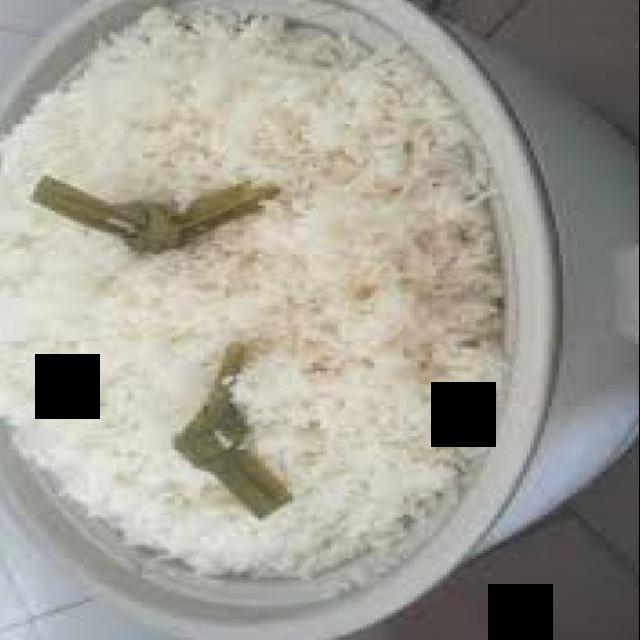rice: (0, 5, 510, 580)
